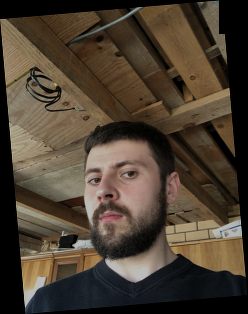without_mask: (86, 153, 160, 260)
